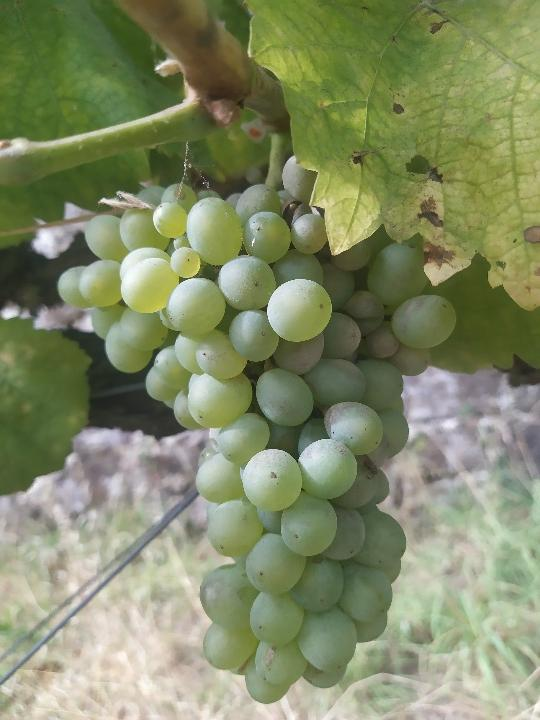grape: (54, 154, 462, 706)
